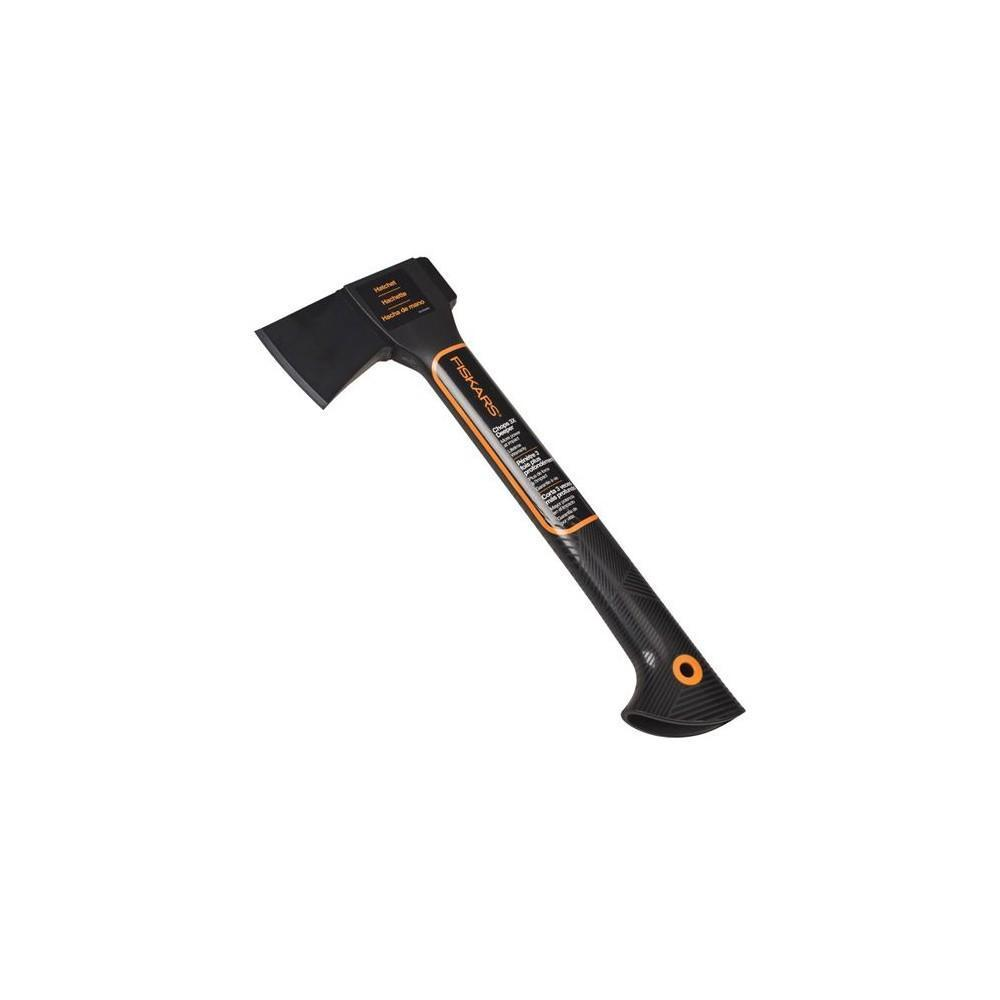machado: (257, 258, 743, 736)
